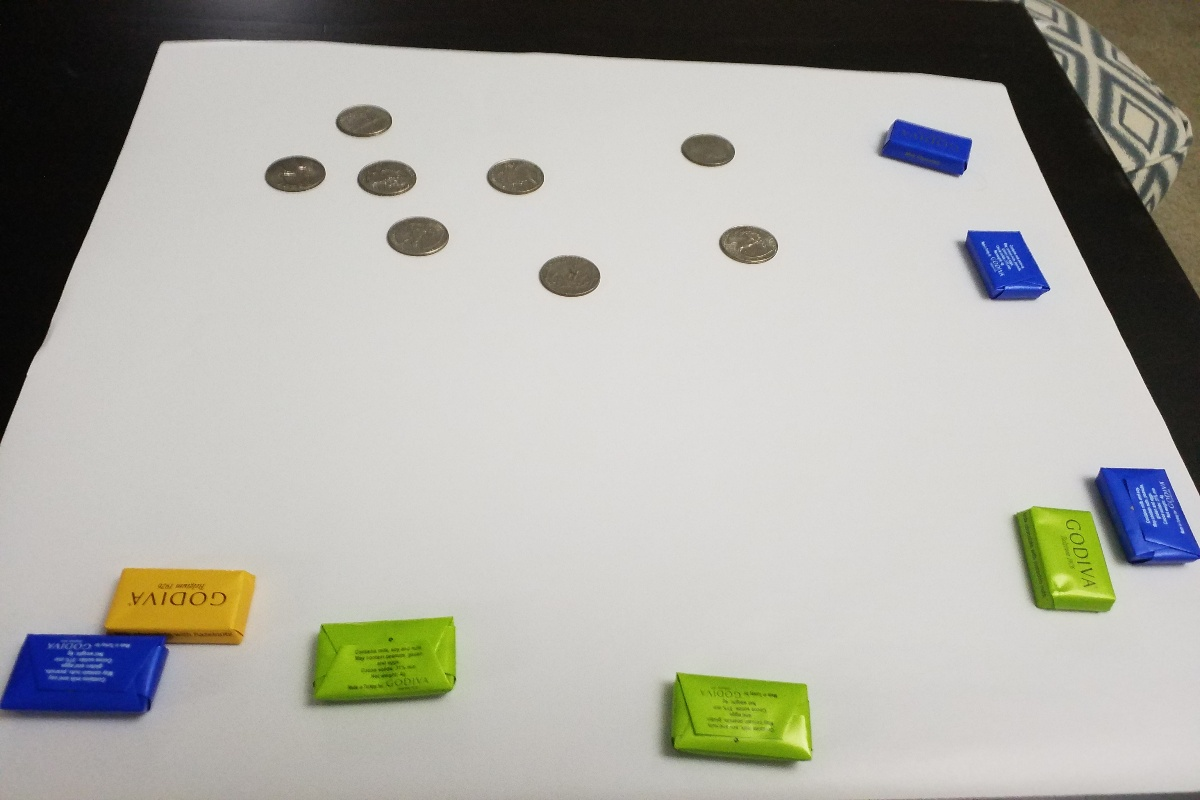chocolate_blue: (6, 629, 173, 732), (1085, 457, 1200, 586), (943, 217, 1062, 317), (864, 119, 985, 192)
chocolate_green: (305, 613, 477, 717), (663, 668, 827, 773), (997, 490, 1116, 633)
chocolate_yellow: (91, 552, 269, 655)
coin_quarter: (523, 235, 613, 315), (479, 135, 564, 210), (700, 212, 789, 282), (249, 146, 338, 215), (368, 207, 462, 272), (322, 87, 397, 149), (347, 158, 427, 210), (676, 123, 745, 180)
